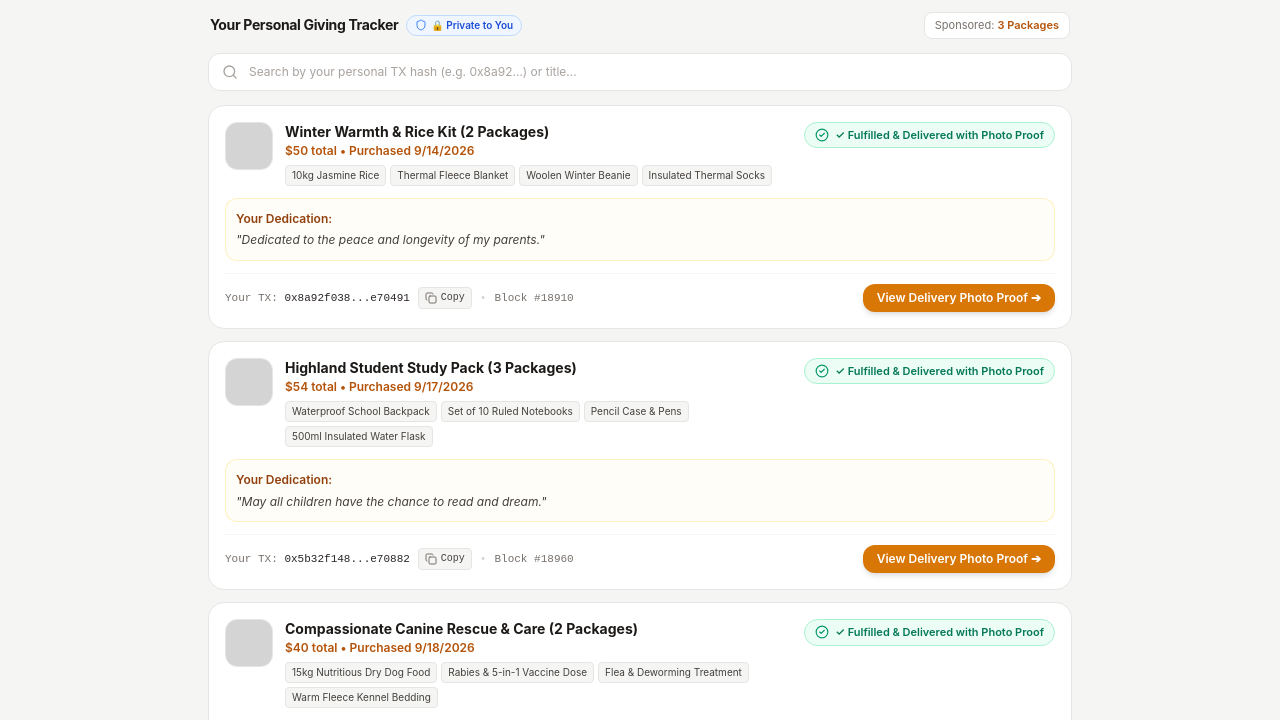
Scenario: ProofExplorer (Tab 2) › filters personal purchases using search query
The width and height of the screenshot is (1280, 720).
Type "Winter Warmth" into the field with placeholder "Search by your personal TX hash".
click(640, 72); type("Winter Warmth")  # box [208,52,1072,90]
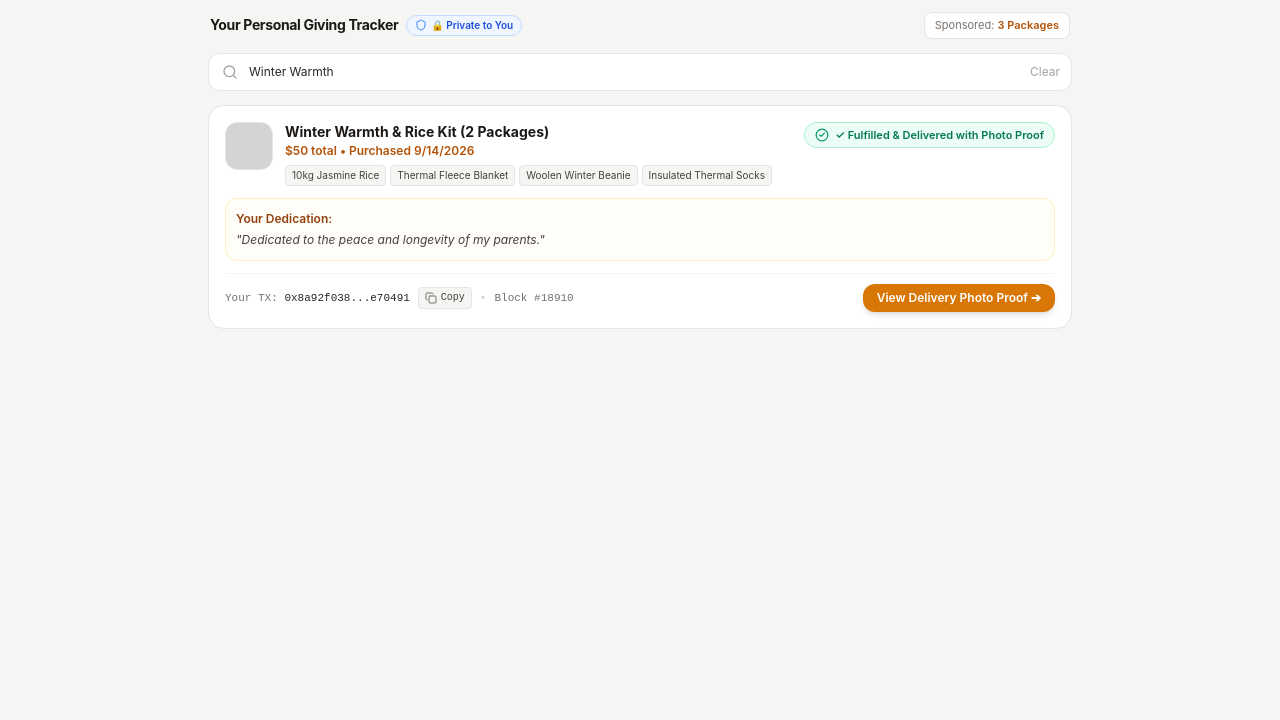
Expected: the heading "Winter Warmth & Rice Kit (2 Packages)" is shown, [285,122,549,140]
Expected: the heading "Highland Student Study Pack" is gone
